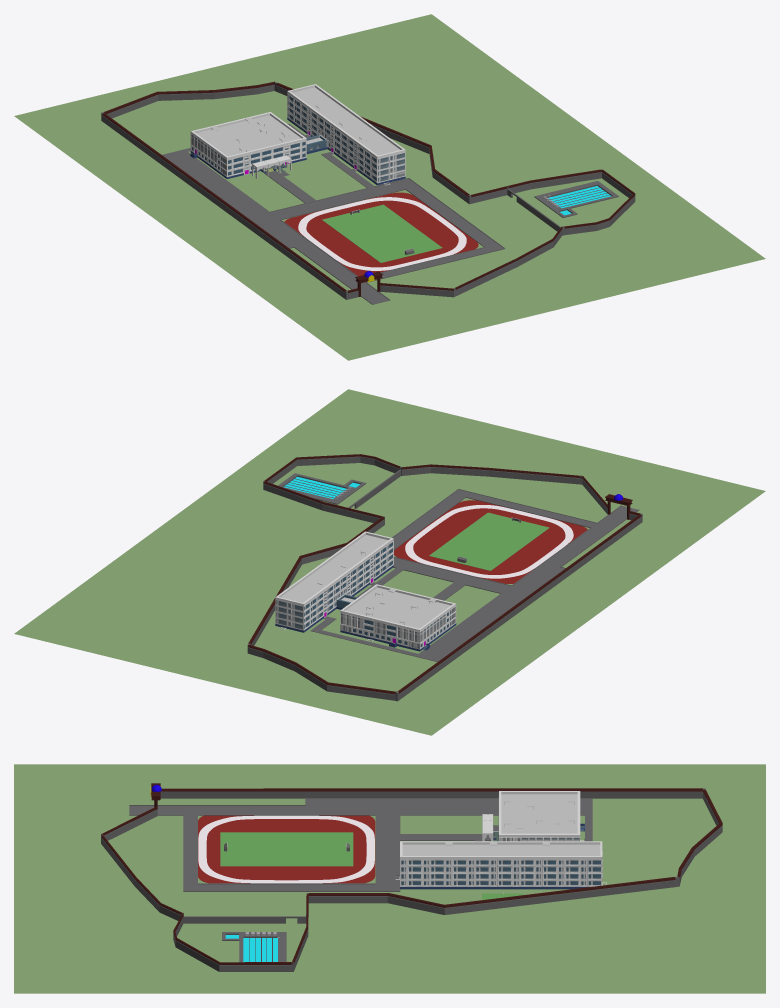
File: Sekolah Warna - Final.fbx
3 views of the same model, one above another, from view 1: azimuth 30°, elevation 25°; view 2: azimuth 150°, elevation 25°; view 3: azimuth 270°, elevation 25° (orthographic). The views are drawn at different scales.
Visible parts, largest first — view 1: Jalan.001, Tembok, Jalan, Gedung B, Lap. Bola, Gedung A, Lap. Bola.009, Track lari, Jendela Panjang B, Pinggiran kolam, Kolam Renang; view 2: Jalan.001, Tembok, Jalan, Gedung B, Lap. Bola, Gedung A, Lap. Bola.009, Track lari, Jendela Panjang B, Kolam Renang, Pinggiran kolam, Jendela Tinggi Besar A; view 3: Jalan.001, Tembok, Jalan, Gedung B, Lap. Bola, Lap. Bola.009, Gedung A, Track lari, Jendela Panjang B, Kolam Renang, Jendela Kotak B, Pinggiran kolam.
Boxes of the visible parts, box(x1,y1,x2,y2) form: Jalan.001: box(14, 14, 765, 360); Tembok: box(101, 81, 635, 299); Jalan: box(162, 124, 505, 304); Gedung B: box(287, 84, 405, 185); Lap. Bola: box(284, 192, 478, 276); Gedung A: box(190, 112, 306, 178); Lap. Bola.009: box(322, 204, 442, 262); Track lari: box(298, 197, 466, 270); Jendela Panjang B: box(288, 95, 376, 180); Pinggiran kolam: box(534, 181, 618, 217); Kolam Renang: box(548, 186, 611, 215); Jalan.001: box(14, 389, 765, 735); Tembok: box(247, 454, 642, 701); Jalan: box(310, 489, 638, 661); Gedung B: box(275, 531, 393, 632); Lap. Bola: box(394, 500, 587, 583); Gedung A: box(340, 584, 456, 651); Lap. Bola.009: box(429, 512, 549, 570); Track lari: box(405, 505, 573, 578); Jendela Panjang B: box(304, 542, 392, 628); Kolam Renang: box(284, 476, 359, 499); Pinggiran kolam: box(278, 473, 366, 504); Jendela Tinggi Besar A: box(341, 613, 445, 642); Jalan.001: box(14, 764, 765, 993); Tembok: box(101, 783, 722, 971); Jalan: box(129, 798, 592, 891); Gedung B: box(400, 841, 602, 889); Lap. Bola: box(198, 815, 375, 883); Lap. Bola.009: box(220, 832, 353, 866); Gedung A: box(498, 791, 580, 841); Track lari: box(198, 815, 374, 883); Jendela Panjang B: box(409, 860, 600, 885); Kolam Renang: box(225, 935, 277, 962); Jendela Kotak B: box(401, 860, 585, 885); Pinggiran kolam: box(222, 932, 286, 962).
Size of the model in its own units: 20225 by 1696 by 28041.
